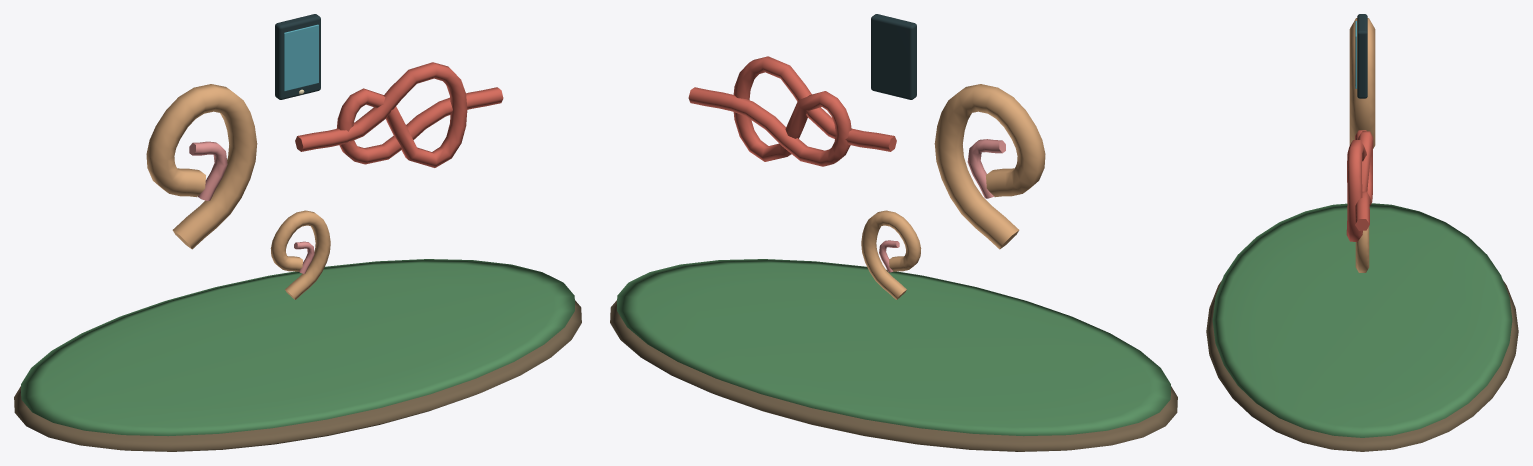
File: complete-second-ears-tie-contact.glb
3 renders of one model, left to right at view 1: azimuth 30°, elevation 25°; view 2: azimuth 150°, elevation 25°; view 3: azimuth 270°, elevation 25°, orthographic. The views are drawn at different scales.
Parts seen in each view (by area): view 1: complete-second-ears-tie-contact_surface_01, complete-second-ears-tie-contact_surface_02, complete-second-ears-tie-contact_surface_00, complete-second-ears-tie-contact_surface_04, complete-second-ears-tie-contact_surface_06, complete-second-ears-tie-contact_surface_05, complete-second-ears-tie-contact_surface_03; view 2: complete-second-ears-tie-contact_surface_01, complete-second-ears-tie-contact_surface_02, complete-second-ears-tie-contact_surface_00, complete-second-ears-tie-contact_surface_04, complete-second-ears-tie-contact_surface_05, complete-second-ears-tie-contact_surface_03; view 3: complete-second-ears-tie-contact_surface_01, complete-second-ears-tie-contact_surface_00, complete-second-ears-tie-contact_surface_02, complete-second-ears-tie-contact_surface_04, complete-second-ears-tie-contact_surface_05.
Part boxes in pixels (bbox=[...]): complete-second-ears-tie-contact_surface_01: bbox=[21, 259, 574, 436]; complete-second-ears-tie-contact_surface_02: bbox=[146, 84, 330, 299]; complete-second-ears-tie-contact_surface_00: bbox=[14, 300, 581, 451]; complete-second-ears-tie-contact_surface_04: bbox=[295, 62, 503, 167]; complete-second-ears-tie-contact_surface_06: bbox=[284, 24, 318, 91]; complete-second-ears-tie-contact_surface_05: bbox=[275, 14, 320, 99]; complete-second-ears-tie-contact_surface_03: bbox=[189, 141, 314, 273]; complete-second-ears-tie-contact_surface_01: bbox=[617, 259, 1170, 436]; complete-second-ears-tie-contact_surface_02: bbox=[861, 84, 1045, 299]; complete-second-ears-tie-contact_surface_00: bbox=[610, 300, 1177, 451]; complete-second-ears-tie-contact_surface_04: bbox=[688, 56, 896, 166]; complete-second-ears-tie-contact_surface_05: bbox=[871, 14, 916, 99]; complete-second-ears-tie-contact_surface_03: bbox=[879, 139, 1005, 272]; complete-second-ears-tie-contact_surface_01: bbox=[1212, 203, 1512, 437]; complete-second-ears-tie-contact_surface_00: bbox=[1206, 280, 1518, 451]; complete-second-ears-tie-contact_surface_02: bbox=[1349, 18, 1375, 272]; complete-second-ears-tie-contact_surface_04: bbox=[1346, 130, 1373, 241]; complete-second-ears-tie-contact_surface_05: bbox=[1357, 14, 1367, 98].
Size of the model in its own units: 4.56 by 2.86 by 2.5.
